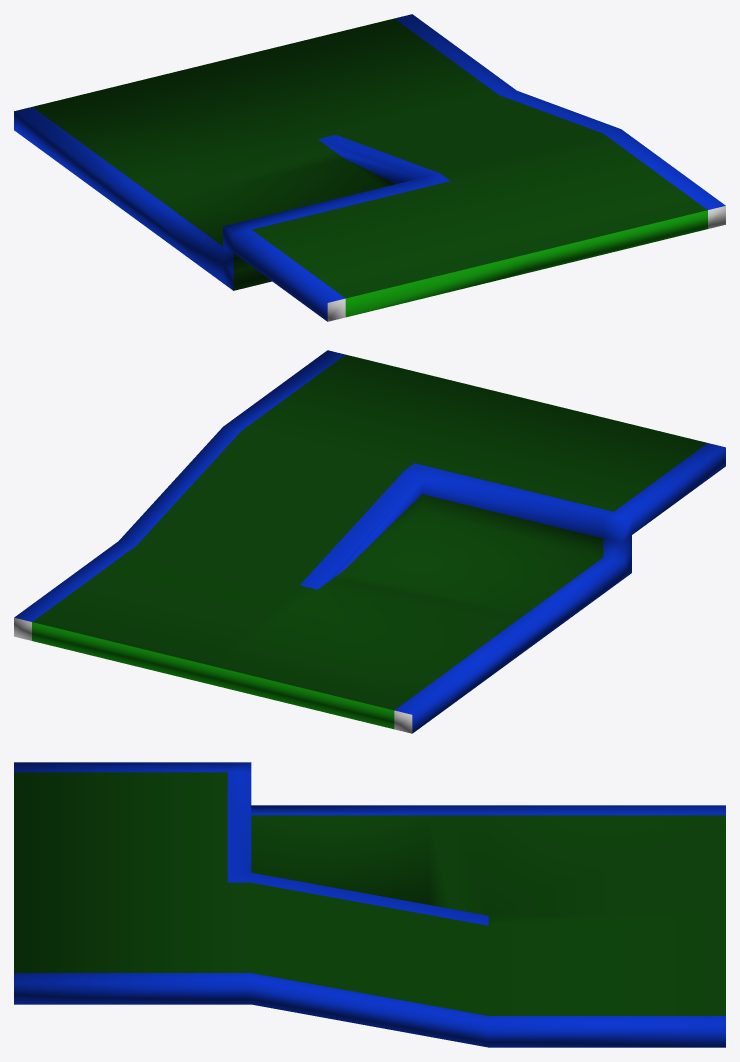
The model's file is HalfWideLeftUpLeft.fbx.
3 views of the same model, one above another, from view 1: azimuth 30°, elevation 25°; view 2: azimuth 150°, elevation 25°; view 3: azimuth 270°, elevation 25° (orthographic). The views are drawn at different scales.
Visible parts, largest first — view 1: Mesh; view 2: Mesh; view 3: Mesh.
Part boxes in pixels (left/top/right/bottom): Mesh: left=14, top=14, right=725, bottom=321; Mesh: left=14, top=350, right=725, bottom=733; Mesh: left=14, top=762, right=725, bottom=1047.
Size of the model in its own units: 22000 by 3000 by 30000.
